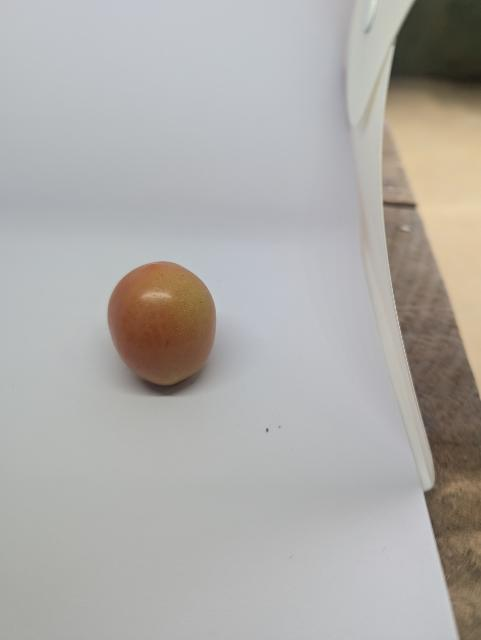turning: (99, 258, 227, 394)
